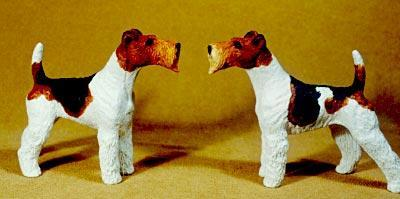wire-haired_fox_terrier: (204, 28, 399, 194), (15, 26, 183, 191)
